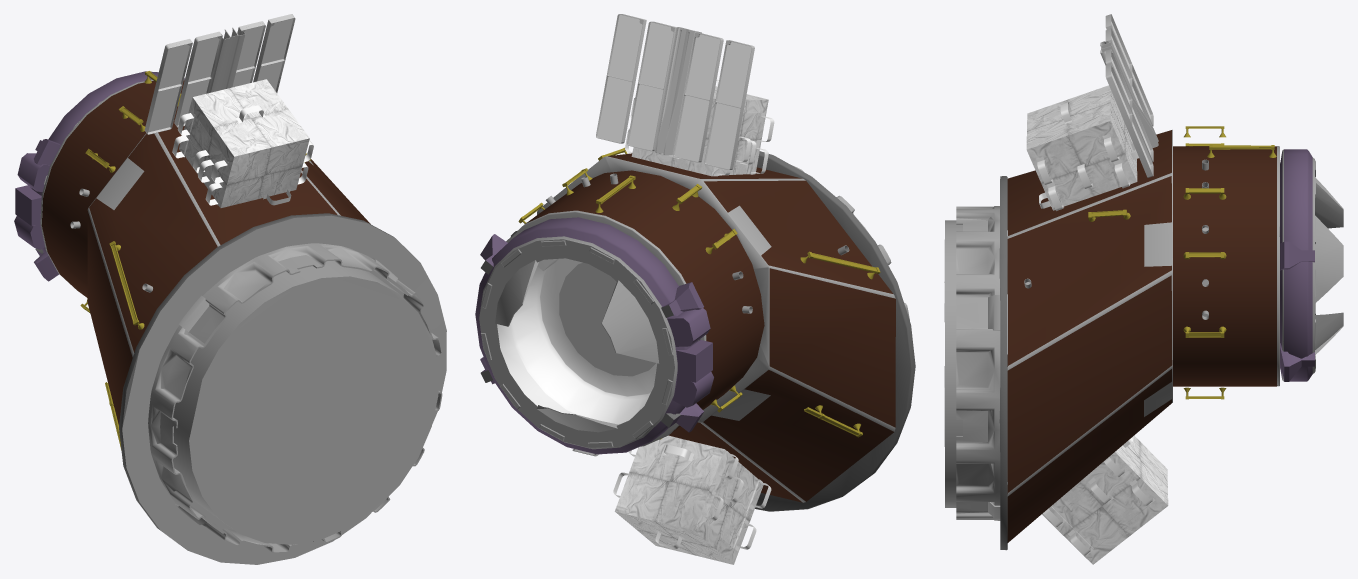
Rendered from PMA1.FBX.
3 views of the same model, side by side, from view 1: azimuth 30°, elevation 25°; view 2: azimuth 150°, elevation 25°; view 3: azimuth 270°, elevation 25° (orthographic). The views are drawn at different scales.
Parts seen in each view (by area): view 1: pma1; view 2: pma1; view 3: pma1.
Boxes of the visible parts, x1,y1,x2,y2 form: pma1: [14, 14, 446, 564]; pma1: [475, 14, 915, 564]; pma1: [944, 14, 1343, 564].
Bounding box in the file's own units: 2.48 × 3.68 × 2.65.
8 materials, 1 textured.
